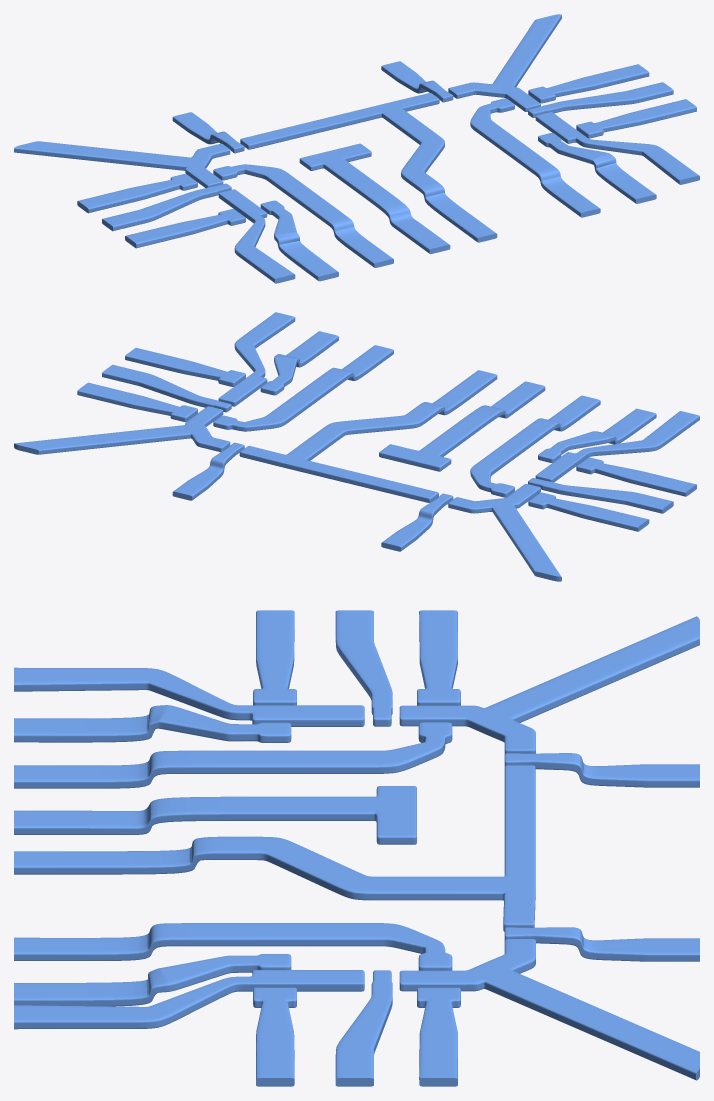
File: protect-gold-topplate.glb
3 views of the same model, one above another, from view 1: azimuth 30°, elevation 25°; view 2: azimuth 150°, elevation 25°; view 3: azimuth 270°, elevation 25° (orthographic). The views are drawn at different scales.
Parts seen in each view (by area): view 1: UPPER-GATE; view 2: UPPER-GATE; view 3: UPPER-GATE.
Boxes of the visible parts, bbox=[...] form: UPPER-GATE: bbox=[14, 14, 699, 283]; UPPER-GATE: bbox=[14, 312, 699, 581]; UPPER-GATE: bbox=[14, 610, 699, 1086].
Bounding box in the file's own units: 0.1711 × 0.00402 × 0.106.
